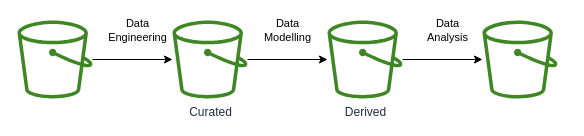
Image size: 584x136. Some labels were removed from this diagram. Here are the shapes that lost their labels. From the top down, the box of each, then its label:
(17, 20, 92, 98): Raw History
(482, 20, 557, 98): Analytical models
